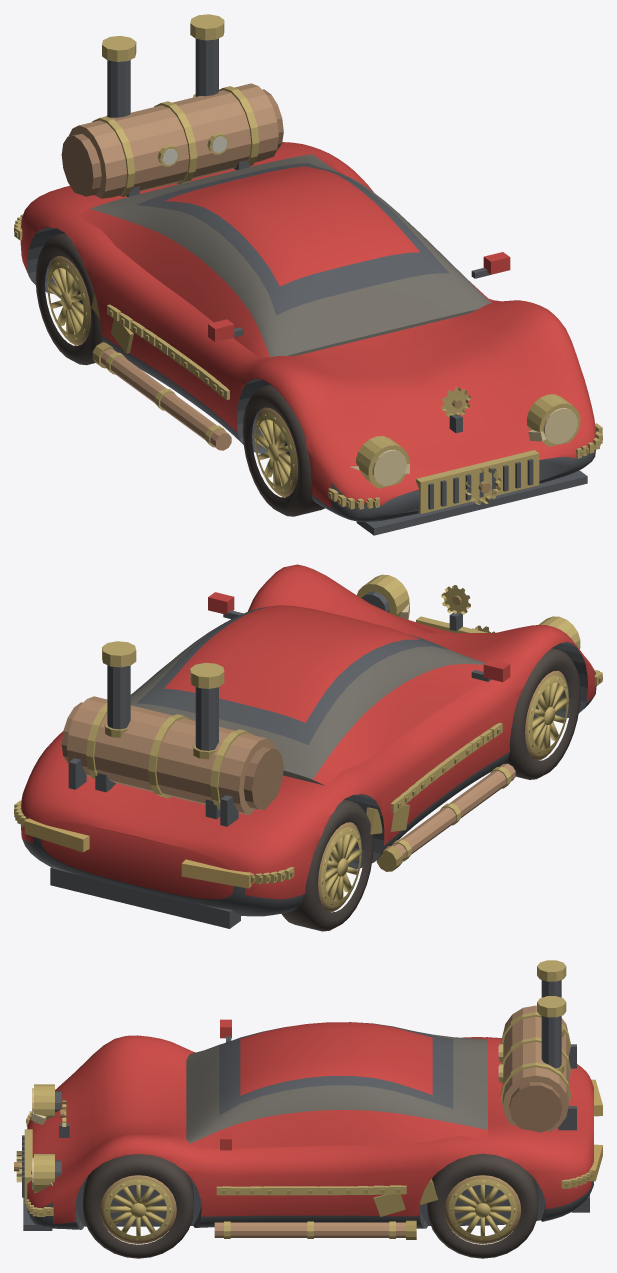
Rendered from supercar.glb.
3 views of the same model, one above another, from view 1: azimuth 30°, elevation 25°; view 2: azimuth 150°, elevation 25°; view 3: azimuth 270°, elevation 25° (orthographic). The views are drawn at different scales.
Visible parts, largest first — view 1: body, wheel_fr, wheel_rr; view 2: body, wheel_rr, wheel_fr; view 3: body, wheel_fl, wheel_rl.
Boxes of the visible parts, left/top/right/bottom form: body: left=14, top=14, right=602, bottom=535; wheel_fr: left=242, top=385, right=324, bottom=516; wheel_rr: left=35, top=233, right=102, bottom=365; body: left=14, top=564, right=602, bottom=928; wheel_rr: left=281, top=799, right=373, bottom=931; wheel_fr: left=505, top=648, right=580, bottom=779; body: left=14, top=960, right=602, bottom=1239; wheel_fl: left=83, top=1154, right=193, bottom=1258; wheel_rl: left=427, top=1153, right=538, bottom=1258.
Size of the model in its own units: 2.2 by 1.84 by 4.45.
